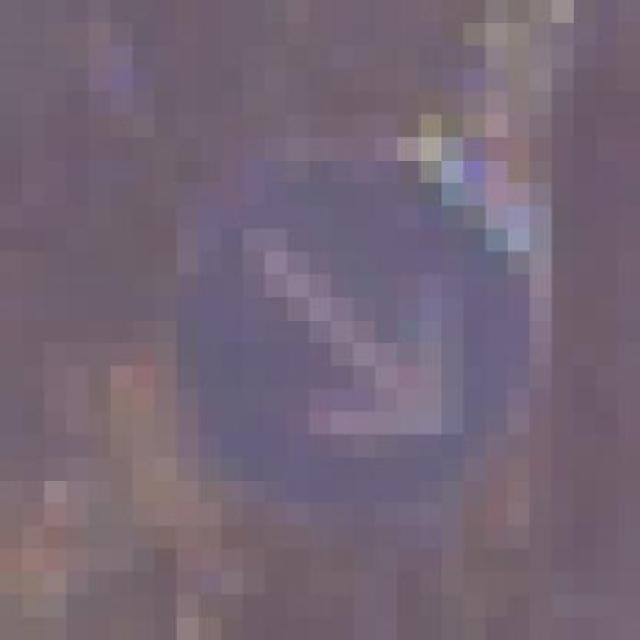Keep-Right: (154, 137, 574, 503)
